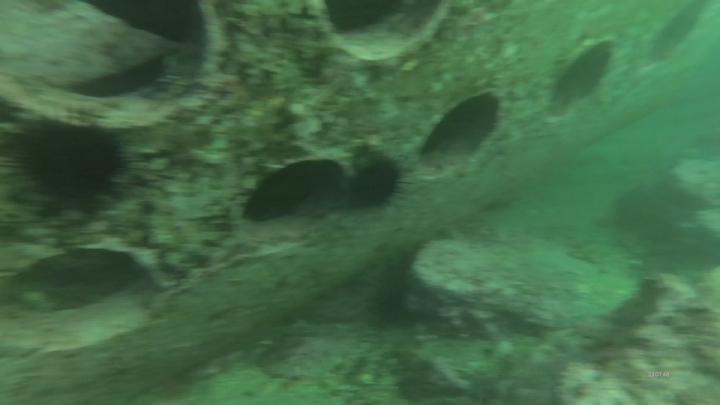echinus: (19, 120, 128, 218), (343, 153, 402, 217)
